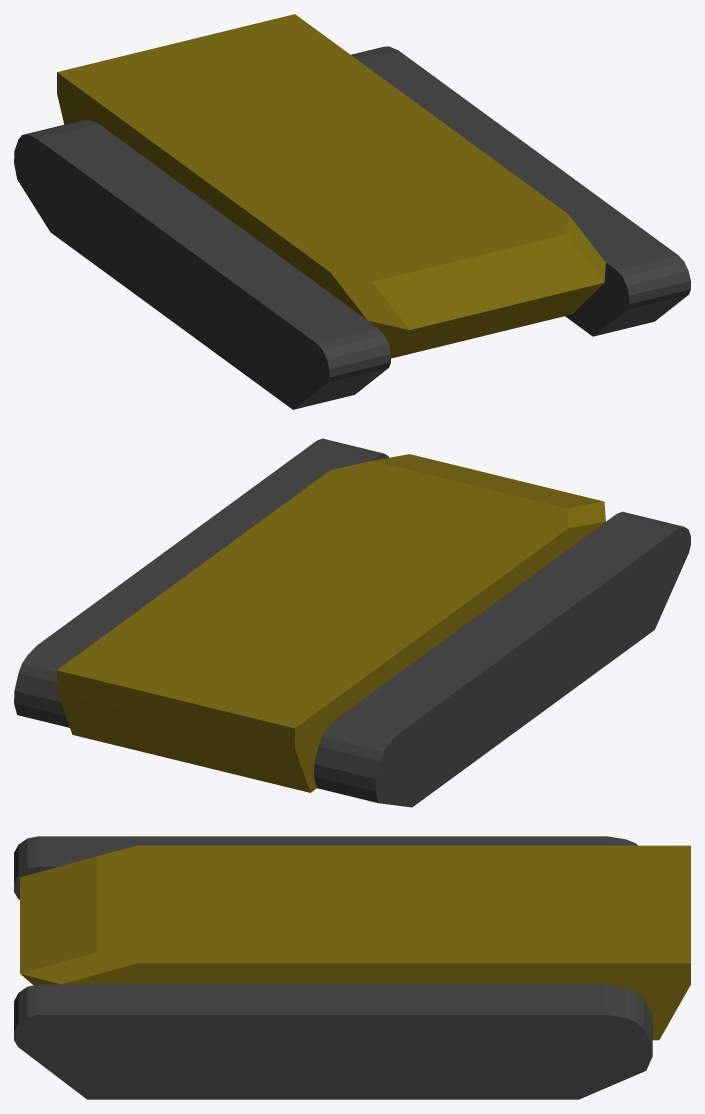
Rendered from Tank_Chassis.fbx.
3 views of the same model, one above another, from view 1: azimuth 30°, elevation 25°; view 2: azimuth 150°, elevation 25°; view 3: azimuth 270°, elevation 25° (orthographic).
Visible parts, largest first — view 1: Tank_Chassis; view 2: Tank_Chassis; view 3: Tank_Chassis.
Part boxes in pixels (x1,y1,x2,y2): Tank_Chassis: [14, 14, 690, 409]; Tank_Chassis: [14, 438, 690, 807]; Tank_Chassis: [14, 836, 690, 1099].
Size of the model in its own units: 905 by 250 by 1448.
